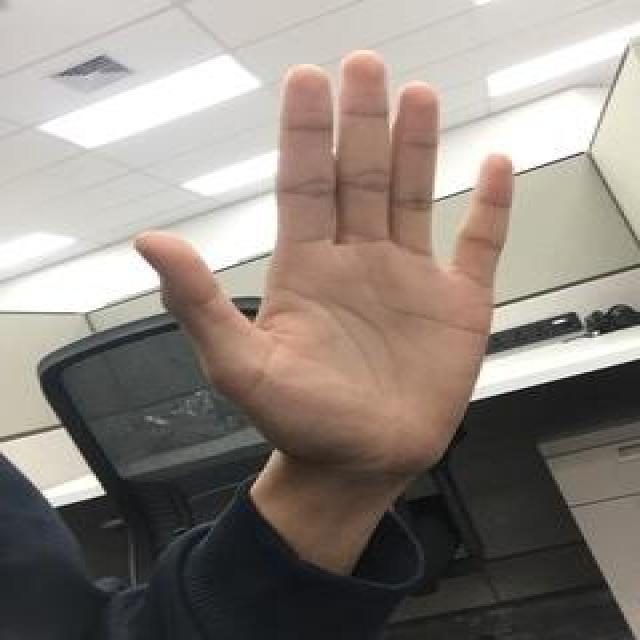hand: (128, 50, 515, 454)
